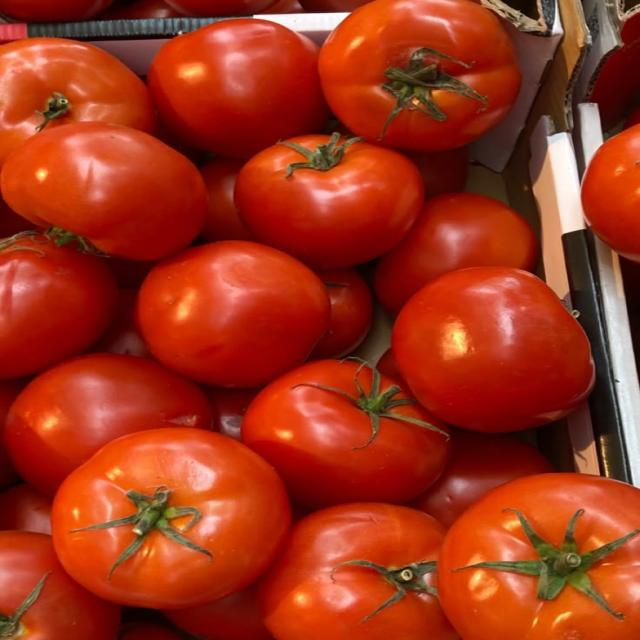tomato: (53, 427, 290, 608), (437, 473, 639, 639), (392, 267, 594, 432), (241, 360, 449, 508), (319, 0, 520, 151), (4, 353, 212, 495), (0, 122, 207, 260), (137, 241, 330, 388), (259, 503, 458, 639), (234, 134, 424, 269), (148, 18, 328, 158), (374, 192, 539, 315), (0, 38, 155, 165), (0, 234, 118, 379), (411, 429, 553, 527), (0, 531, 119, 639), (581, 125, 639, 262), (164, 584, 272, 639), (310, 269, 373, 359), (200, 158, 255, 242), (92, 289, 150, 356), (406, 146, 470, 197), (205, 387, 259, 440), (0, 483, 52, 534), (0, 0, 113, 22), (167, 0, 275, 16), (100, 0, 187, 19), (0, 379, 27, 435), (108, 257, 155, 289), (0, 198, 34, 238), (376, 347, 406, 384), (118, 622, 183, 639), (300, 0, 371, 13), (258, 0, 305, 15), (623, 107, 639, 129)
